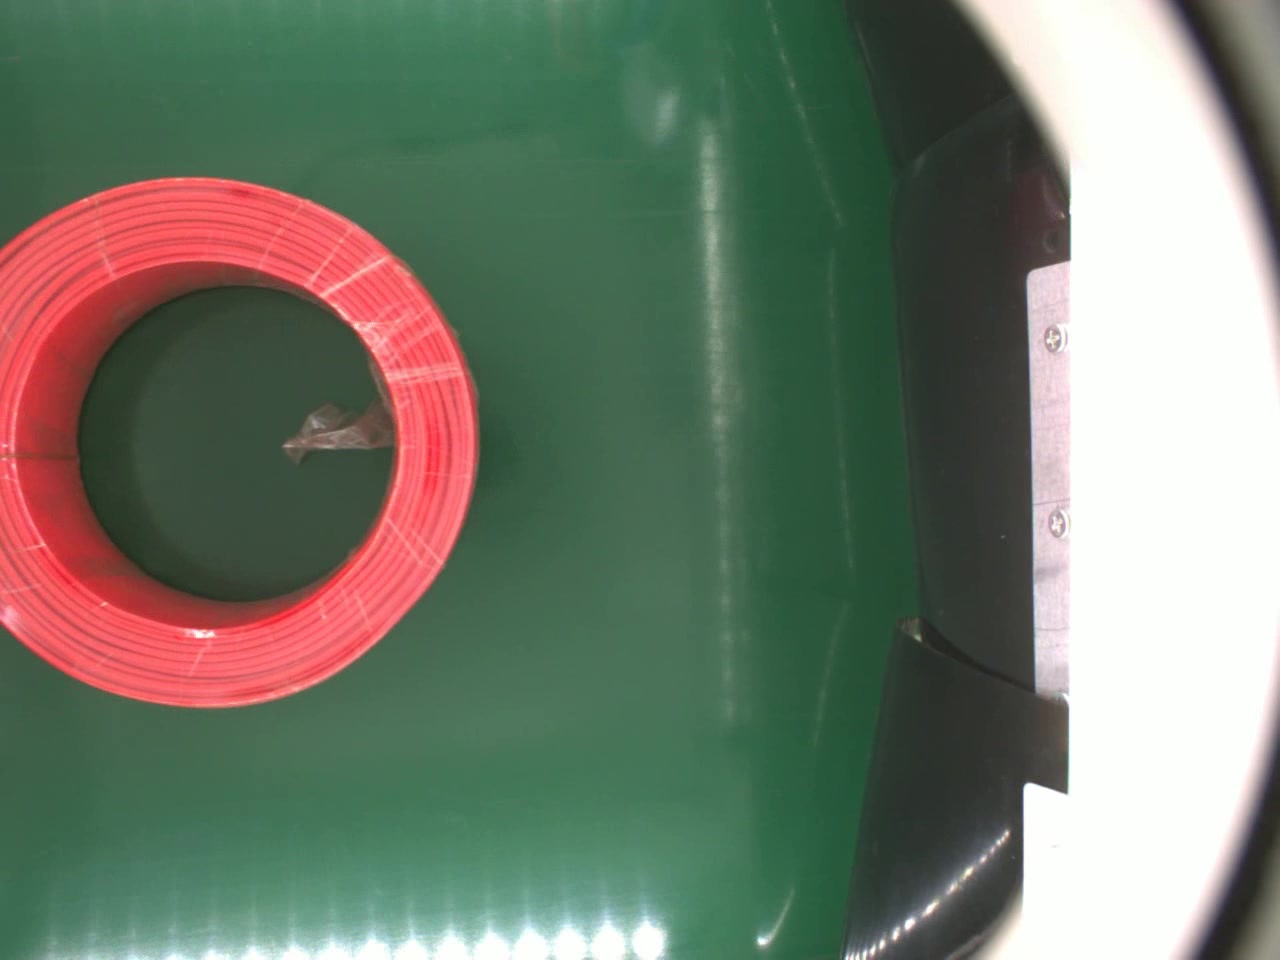red: (0, 170, 487, 712)
